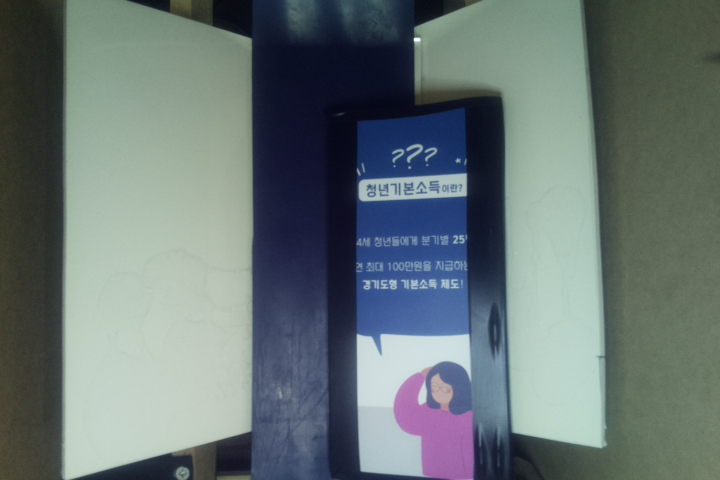book: (325, 97, 514, 480)
